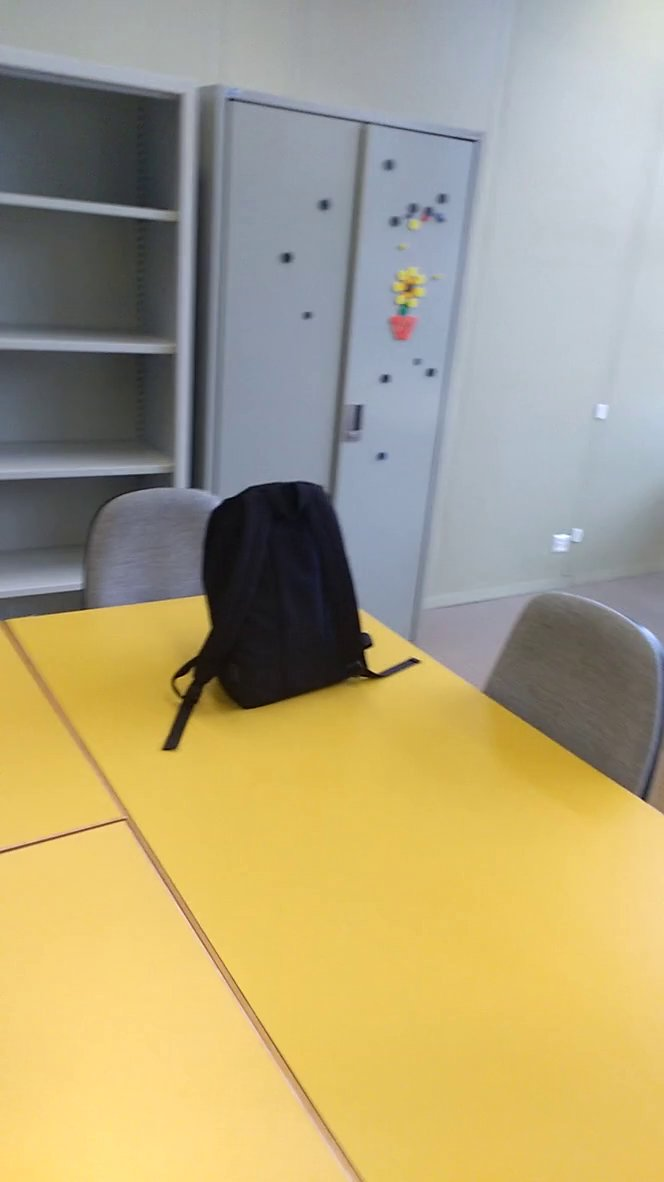bag: (157, 469, 431, 758)
chair: (466, 580, 664, 846), (70, 469, 260, 624)
